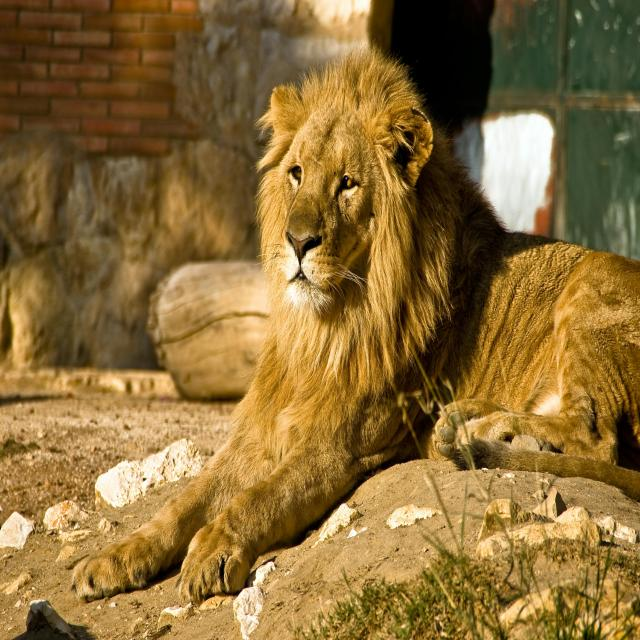Lion: (69, 60, 640, 610)
